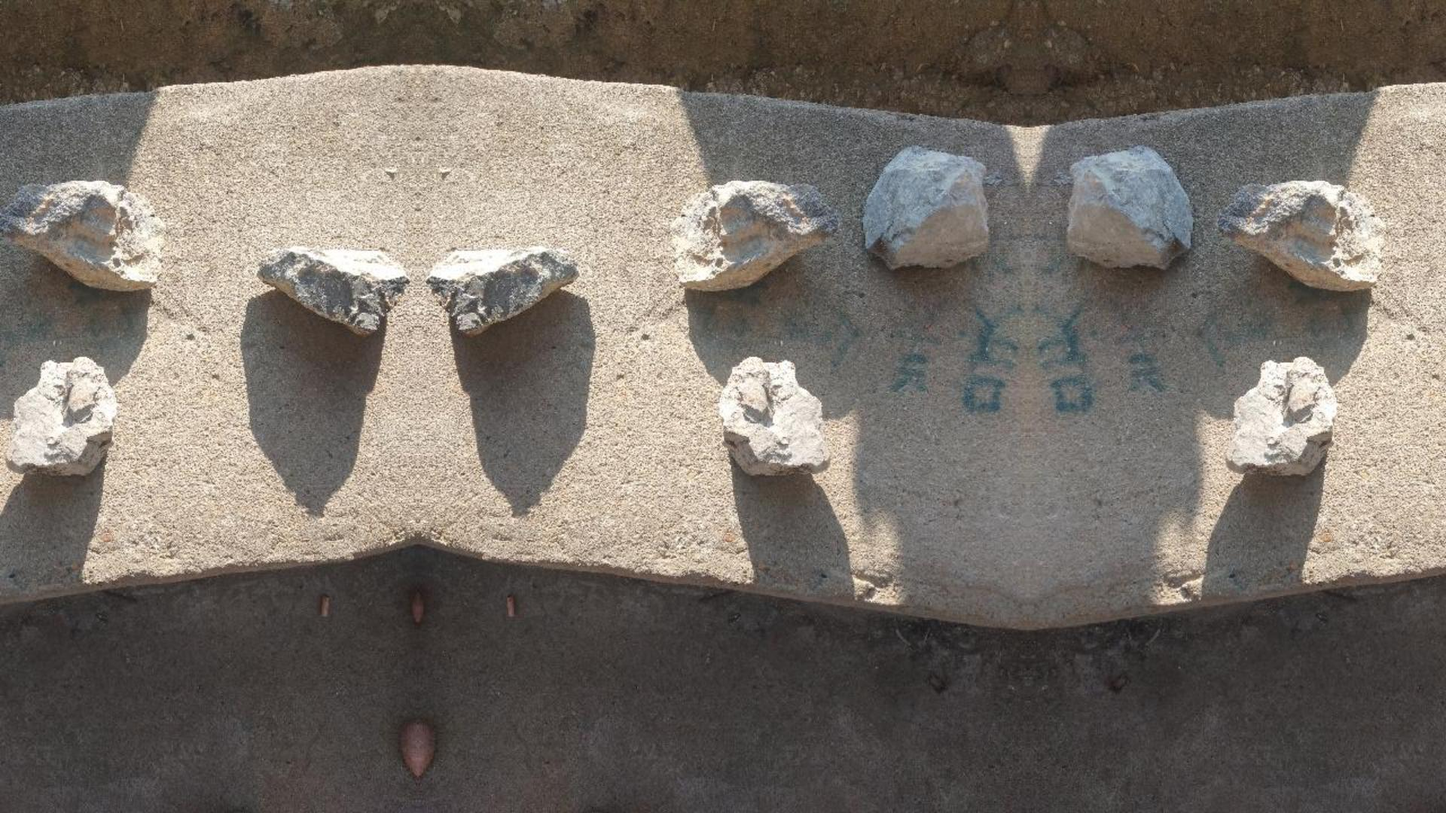rock: (671, 181, 839, 290), (1218, 181, 1384, 290), (0, 181, 162, 290), (863, 146, 987, 268), (1068, 146, 1192, 268), (426, 245, 577, 335), (258, 246, 409, 335), (718, 357, 828, 474), (7, 357, 116, 474), (1227, 357, 1335, 474)
